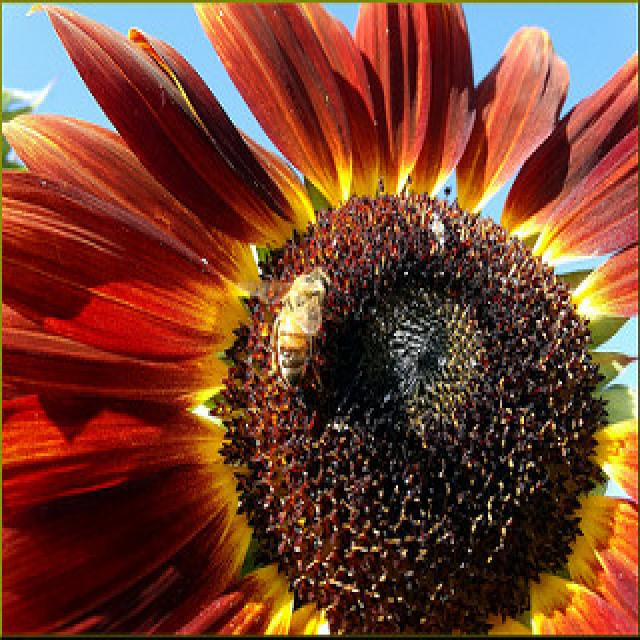sunflower: (4, 6, 640, 638)
